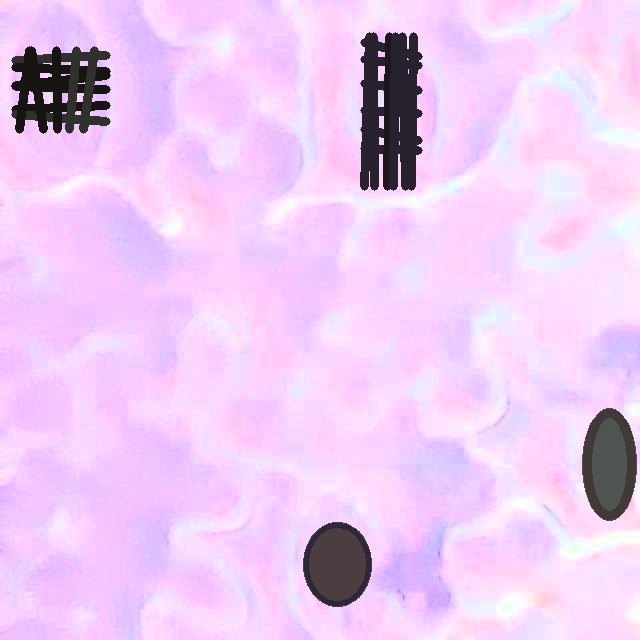open: (361, 33, 422, 189), (11, 46, 110, 133), (582, 408, 636, 521), (303, 522, 371, 607)
